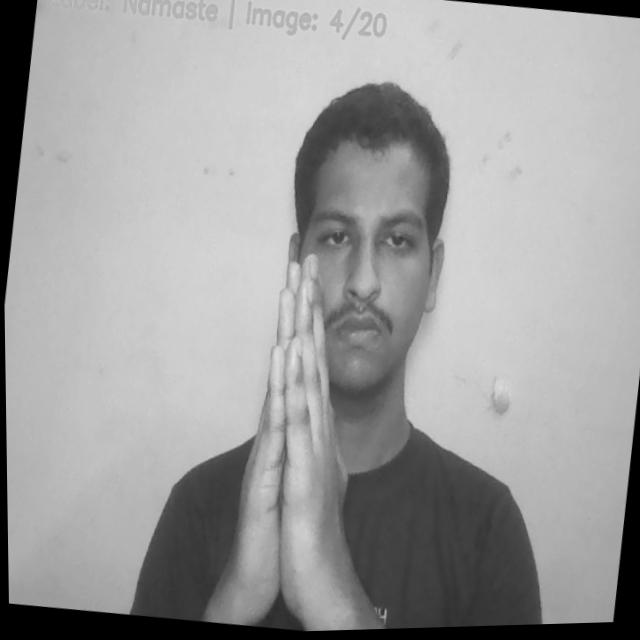Namaste: (221, 253, 374, 635)
